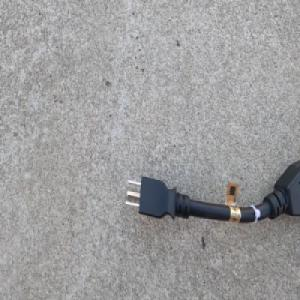Wire: (122, 158, 300, 227)
